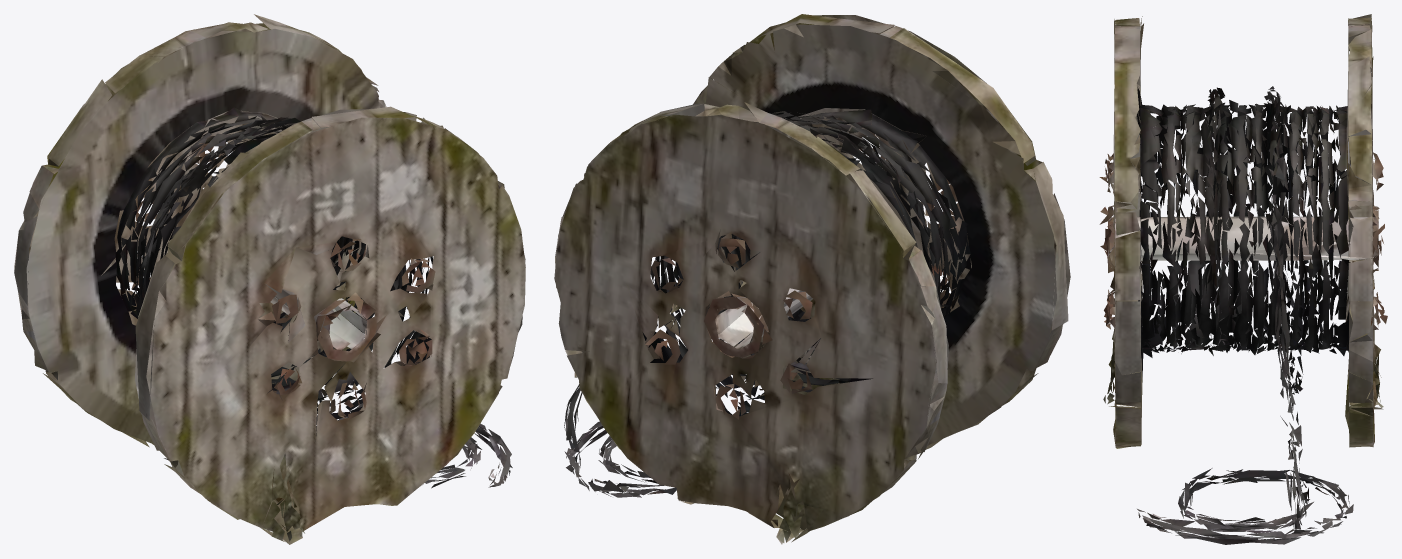
The model's file is prop_cable_reel.glb.
3 renders of one model, left to right at view 1: azimuth 30°, elevation 25°; view 2: azimuth 150°, elevation 25°; view 3: azimuth 270°, elevation 25°, orthographic. The views are drawn at different scales.
Visible parts, largest first — view 1: prop_cable_reel; view 2: prop_cable_reel; view 3: prop_cable_reel.
Boxes of the visible parts, left/top/right/bottom form: prop_cable_reel: left=14, top=14, right=525, bottom=544; prop_cable_reel: left=554, top=14, right=1070, bottom=544; prop_cable_reel: left=1099, top=14, right=1387, bottom=544.
Bounding box in the file's own units: 2.2 × 2.18 × 1.38.
Materials: 1 (1 with a texture image).
